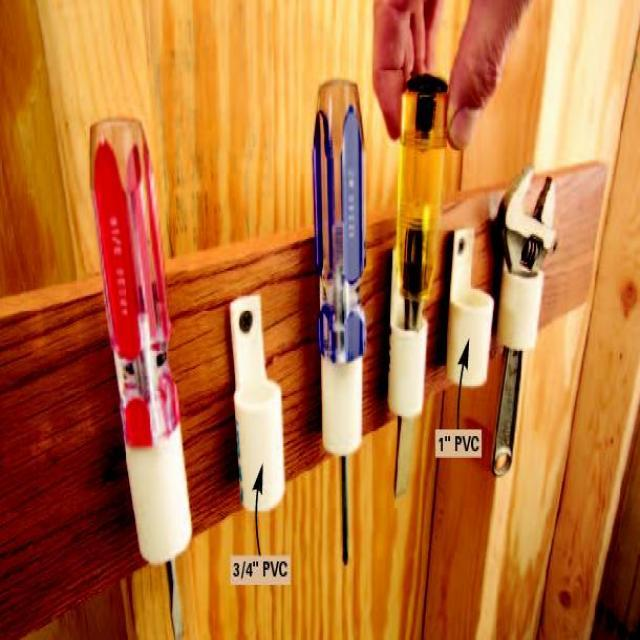screwdriver: (38, 102, 193, 640), (291, 52, 375, 584), (380, 50, 444, 509)
wrench: (488, 143, 556, 516)
